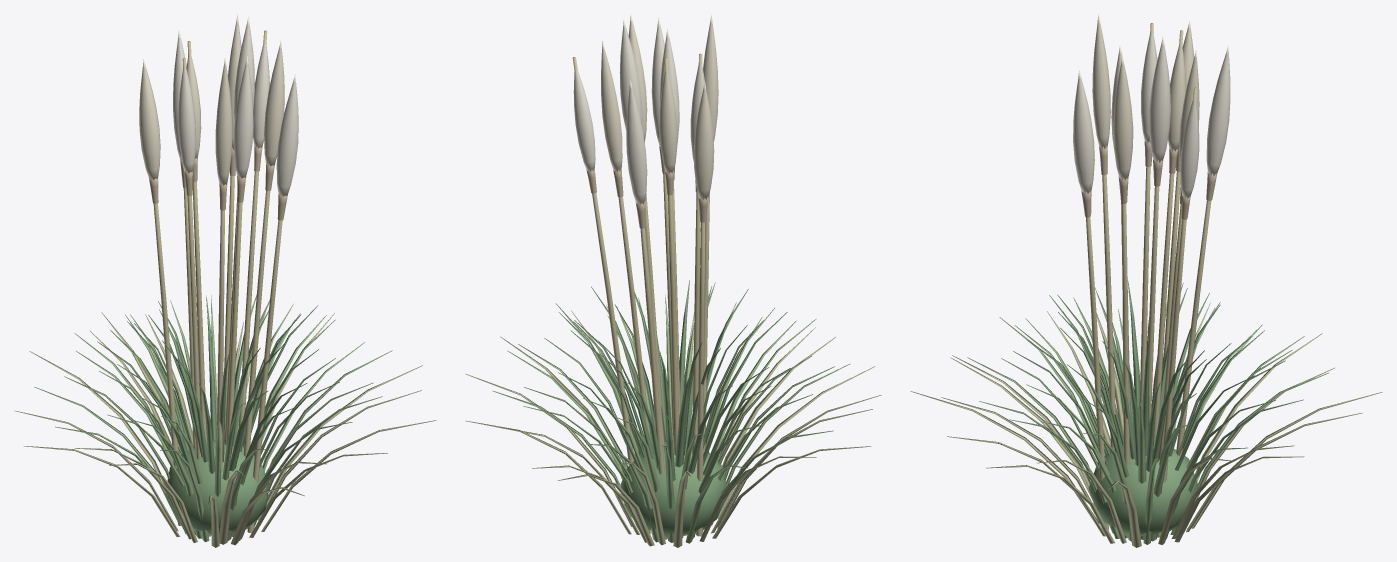
The model's file is pampas_cortadera_1.glb.
The picture shows the model from 3 angles, left to right: view 1: azimuth 30°, elevation 25°; view 2: azimuth 150°, elevation 25°; view 3: azimuth 270°, elevation 25°; orthographic projection. The views are drawn at different scales.
Visible parts, largest first — view 1: CortStalks, CortBladeDeep, CortBladeMid, CortBladeDry, CortPlumeSilk, CortPlumeGold, CortSheaths; view 2: CortBladeDeep, CortStalks, CortBladeMid, CortBladeDry, CortPlumeGold, CortPlumeSilk, CortSheaths; view 3: CortBladeDeep, CortStalks, CortBladeDry, CortBladeMid, CortPlumeSilk, CortPlumeGold, CortSheaths.
Boxes of the visible parts, left/top/right/bottom form: CortStalks: left=153, top=30, right=282, bottom=533; CortBladeDeep: left=97, top=295, right=335, bottom=534; CortBladeMid: left=34, top=295, right=392, bottom=541; CortBladeDry: left=14, top=311, right=436, bottom=547; CortPlumeSilk: left=173, top=16, right=298, bottom=196; CortPlumeGold: left=139, top=14, right=284, bottom=185; CortSheaths: left=149, top=145, right=287, bottom=220; CortBladeDeep: left=558, top=280, right=790, bottom=538; CortStalks: left=572, top=53, right=709, bottom=536; CortBladeMid: left=492, top=294, right=850, bottom=543; CortBladeDry: left=465, top=305, right=881, bottom=547; CortPlumeGold: left=601, top=14, right=718, bottom=199; CortPlumeSilk: left=573, top=17, right=704, bottom=204; CortSheaths: left=586, top=142, right=707, bottom=228; CortBladeDeep: left=1013, top=281, right=1264, bottom=536; CortStalks: left=1086, top=23, right=1211, bottom=537; CortBladeDry: left=910, top=302, right=1382, bottom=547; CortBladeMid: left=967, top=297, right=1328, bottom=544; CortPlumeSilk: left=1073, top=33, right=1230, bottom=198; CortPlumeGold: left=1092, top=14, right=1199, bottom=180; CortSheaths: left=1081, top=141, right=1217, bottom=219.
Size of the model in its own units: 1.65 by 2.04 by 1.7.
